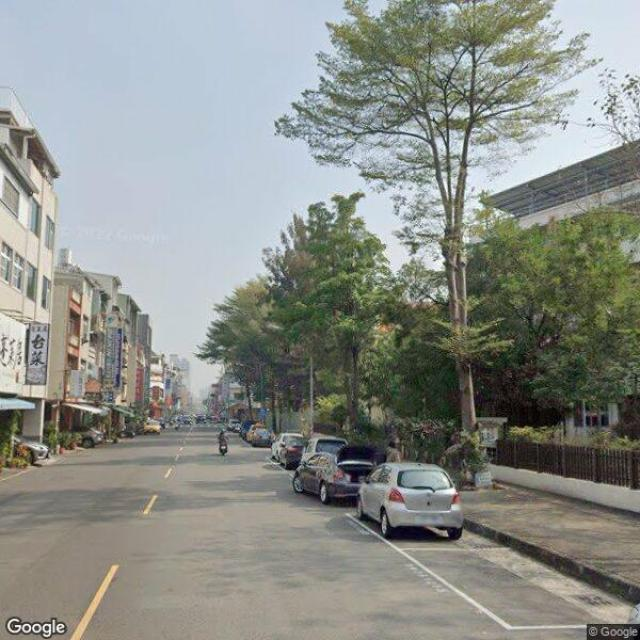Legalparking: (357, 464, 463, 539), (272, 433, 303, 468)
illegalparking: (292, 445, 384, 503)
